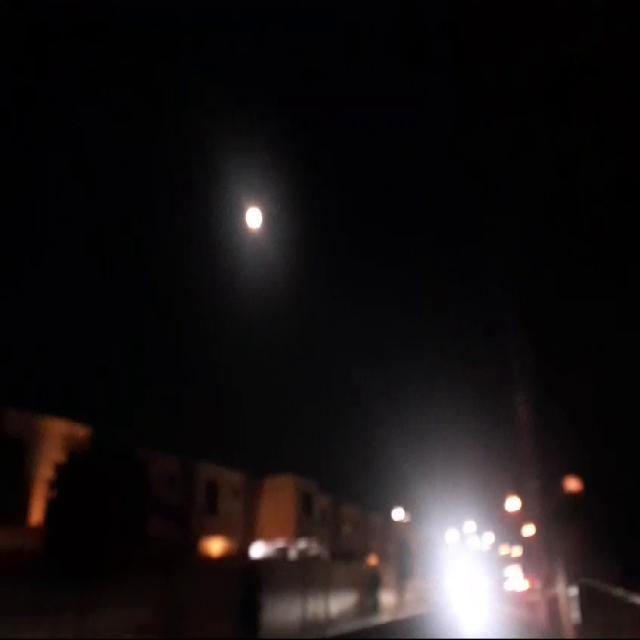moon: (242, 199, 261, 233)
